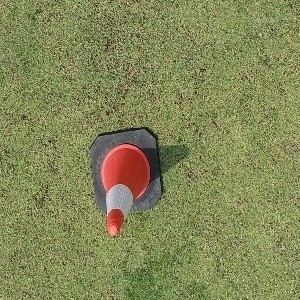traffic cone: (90, 128, 162, 235)
